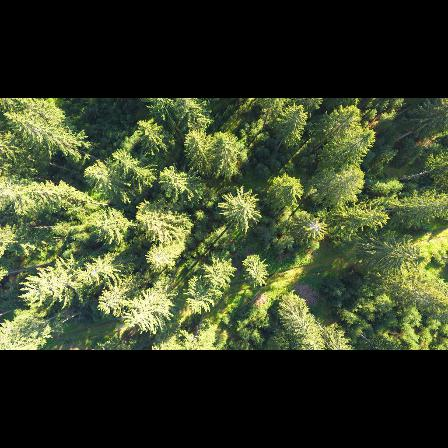Sick: (300, 217, 328, 241)
